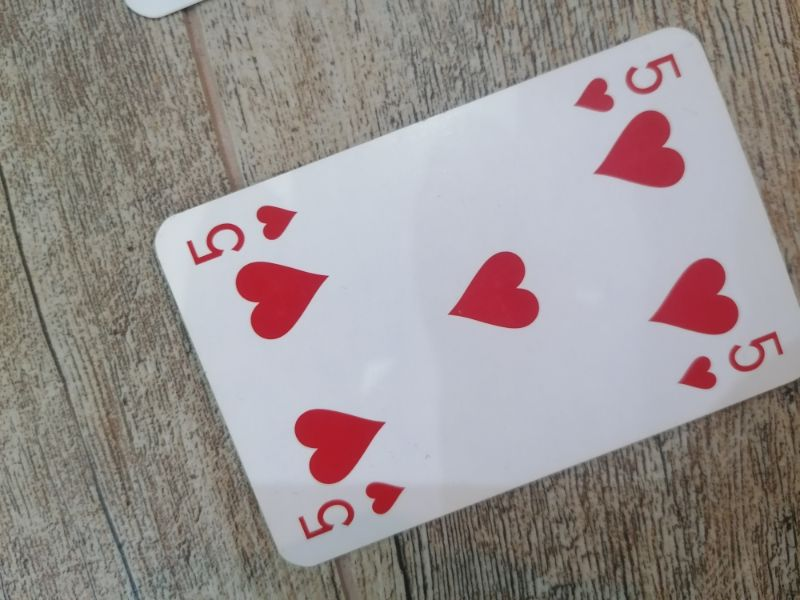5h: (182, 201, 303, 276), (569, 48, 685, 118), (676, 328, 787, 394), (295, 479, 409, 543)
